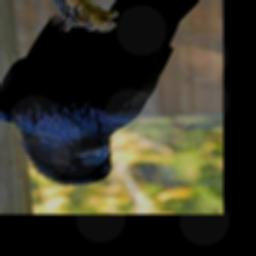Crow: (0, 0, 203, 188)
